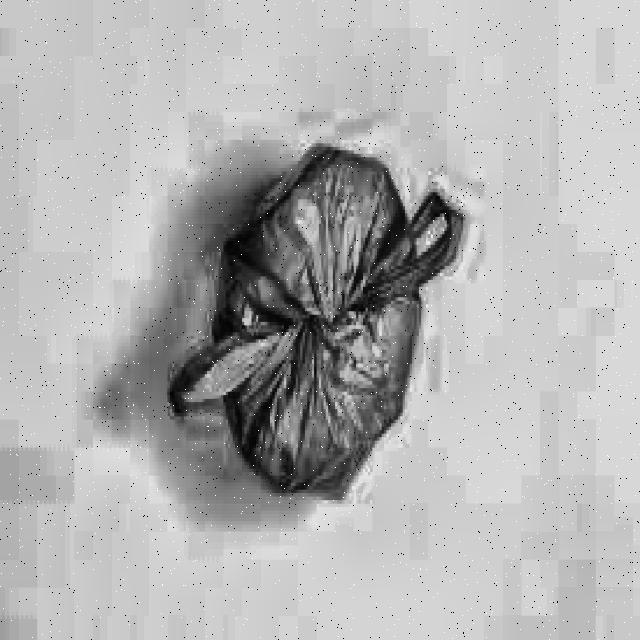Trashbag: (159, 131, 481, 517)
